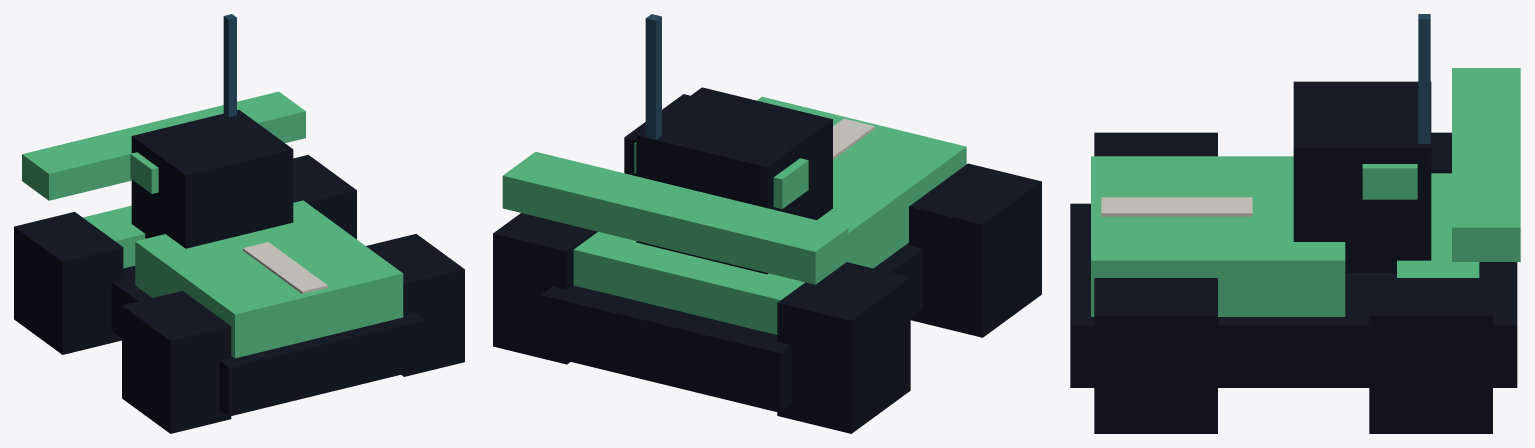
File: kart-fast-5.glb
3 renders of one model, left to right at view 1: azimuth 30°, elevation 25°; view 2: azimuth 150°, elevation 25°; view 3: azimuth 270°, elevation 25°, orthographic. The views are drawn at different scales.
Parts seen in each view (by area): view 1: Kart; view 2: Kart; view 3: Kart.
Boxes of the visible parts, box(x1,y1,x2,y2) form: Kart: box(14, 14, 464, 433); Kart: box(493, 14, 1041, 433); Kart: box(1070, 14, 1520, 433).
Bounding box in the file's own units: 0.63 × 0.565 × 0.655.
